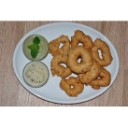vada: (66, 48, 91, 72), (91, 38, 112, 65), (77, 61, 100, 83), (51, 54, 74, 76), (48, 35, 71, 57), (71, 29, 94, 51), (59, 77, 84, 96), (92, 67, 111, 88)
